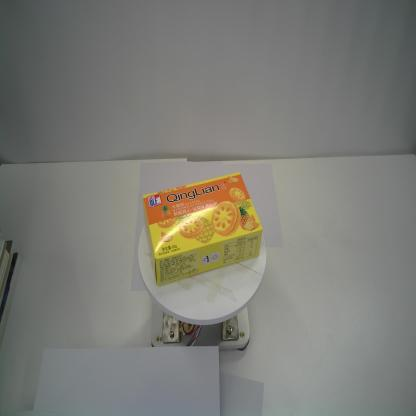Dessert: (141, 170, 264, 287)
